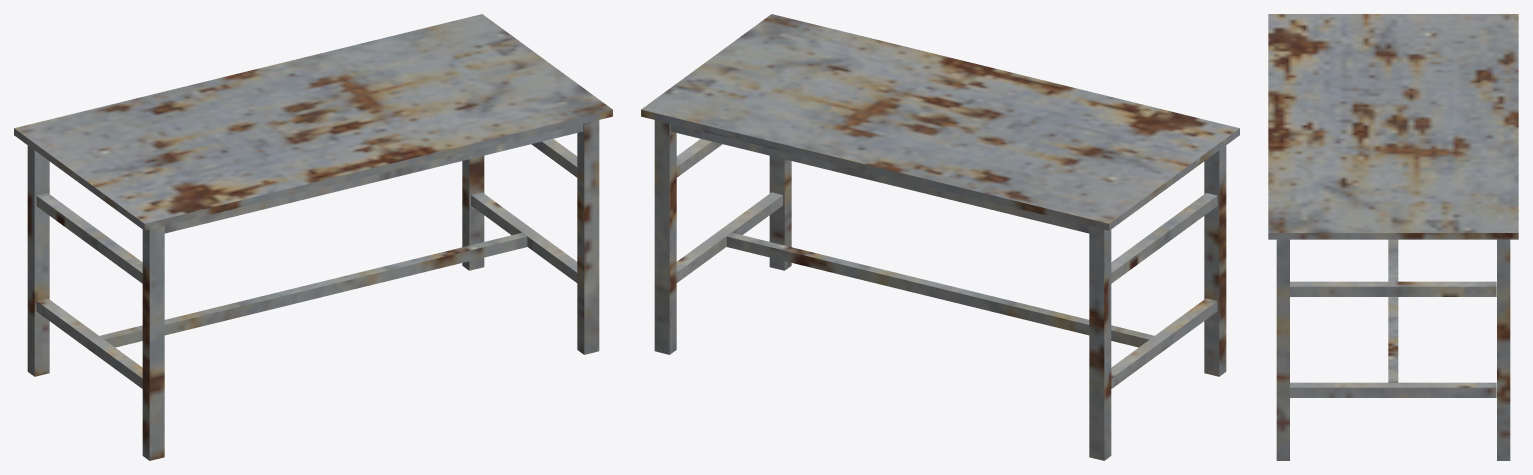
File: table2.obj
The picture shows the model from 3 angles, left to right: view 1: azimuth 30°, elevation 25°; view 2: azimuth 150°, elevation 25°; view 3: azimuth 270°, elevation 25°; orthographic projection. The views are drawn at different scales.
Parts seen in each view (by area): view 1: 0.002; view 2: 0.002; view 3: 0.002.
Part boxes in pixels (x1,y1,x2,y2): 0.002: (14,14,612,460); 0.002: (641,14,1239,460); 0.002: (1268,14,1518,460).
Bounding box in the file's own units: 2.02 × 0.9992 × 0.975.
